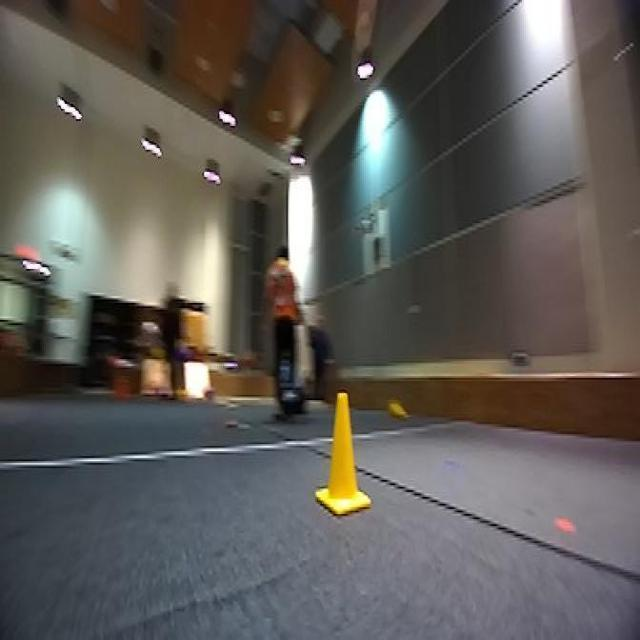frc_cone: (316, 393, 372, 523), (380, 395, 412, 424)
